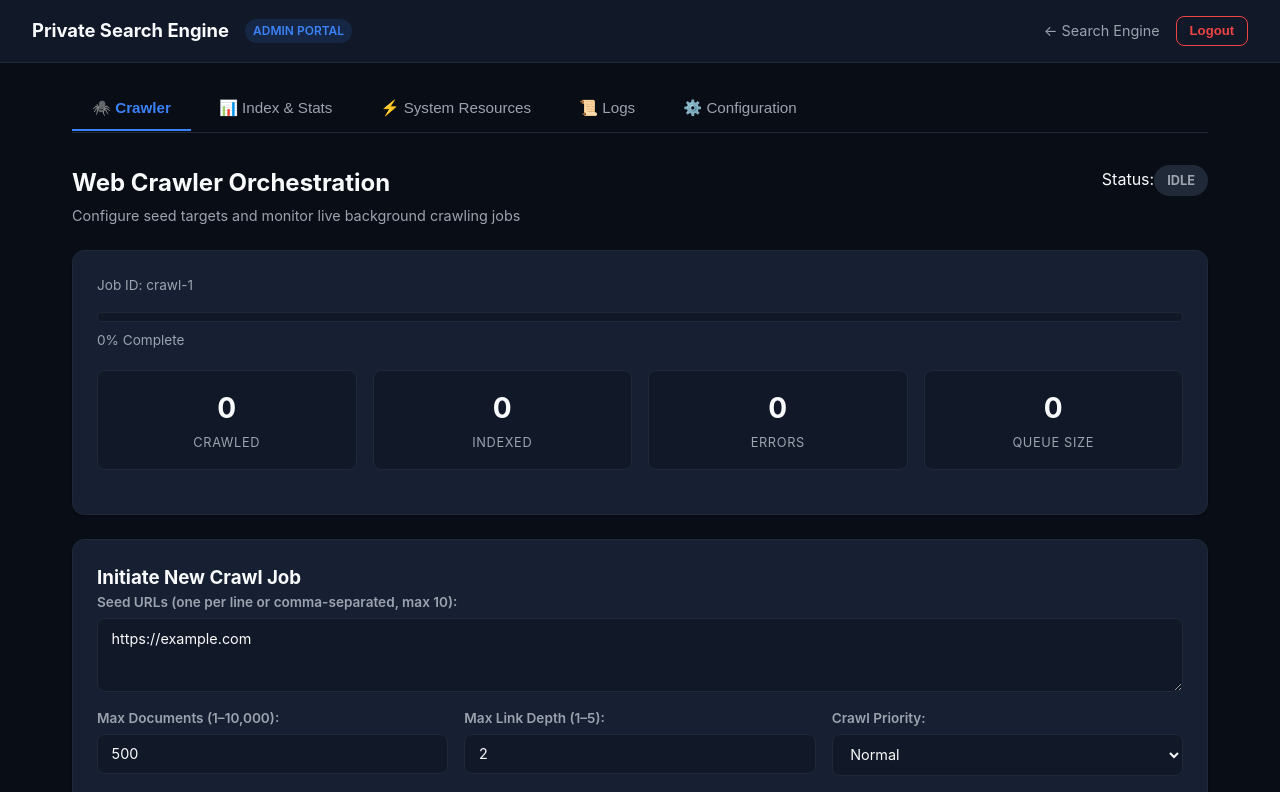
Test case: AdminDashboard & Authentication Gate › switches tabs smoothly when authenticated
The width and height of the screenshot is (1280, 792).
Check: the heading "Web Crawler Orchestration" is shown, box 72,168 -> 390,197
Note: Click Index & Stats tab
What coordinates should you click on to do the following:
click the button "📊 Index & Stats"
I would click on:
 (276, 109)
Its box is 199,87 -> 352,131.
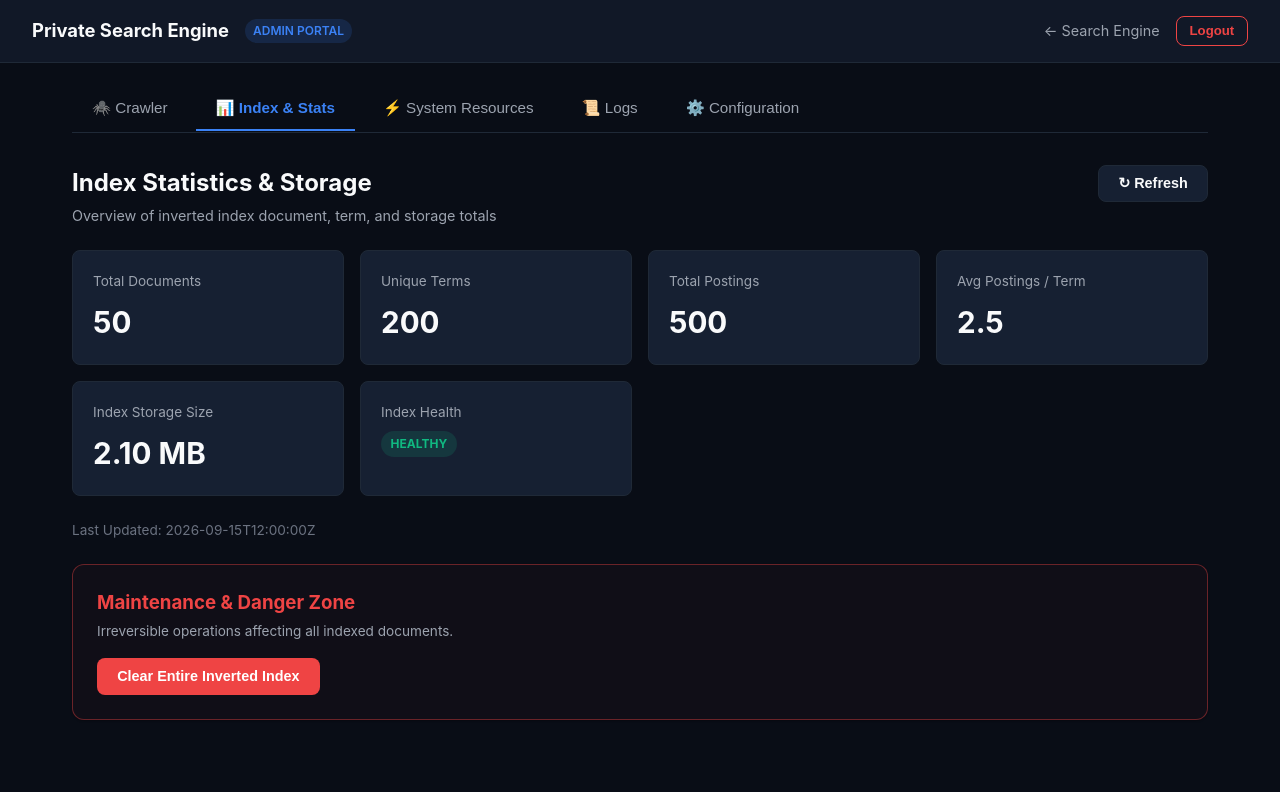
Check: the heading "Index Statistics & Storage" is shown, box 72,168 -> 372,197
Note: Click System Resources tab
What coordinates should you click on to do the following:
click the button "⚡ System Resources"
I would click on:
 (458, 109)
Its box is 363,87 -> 554,131.
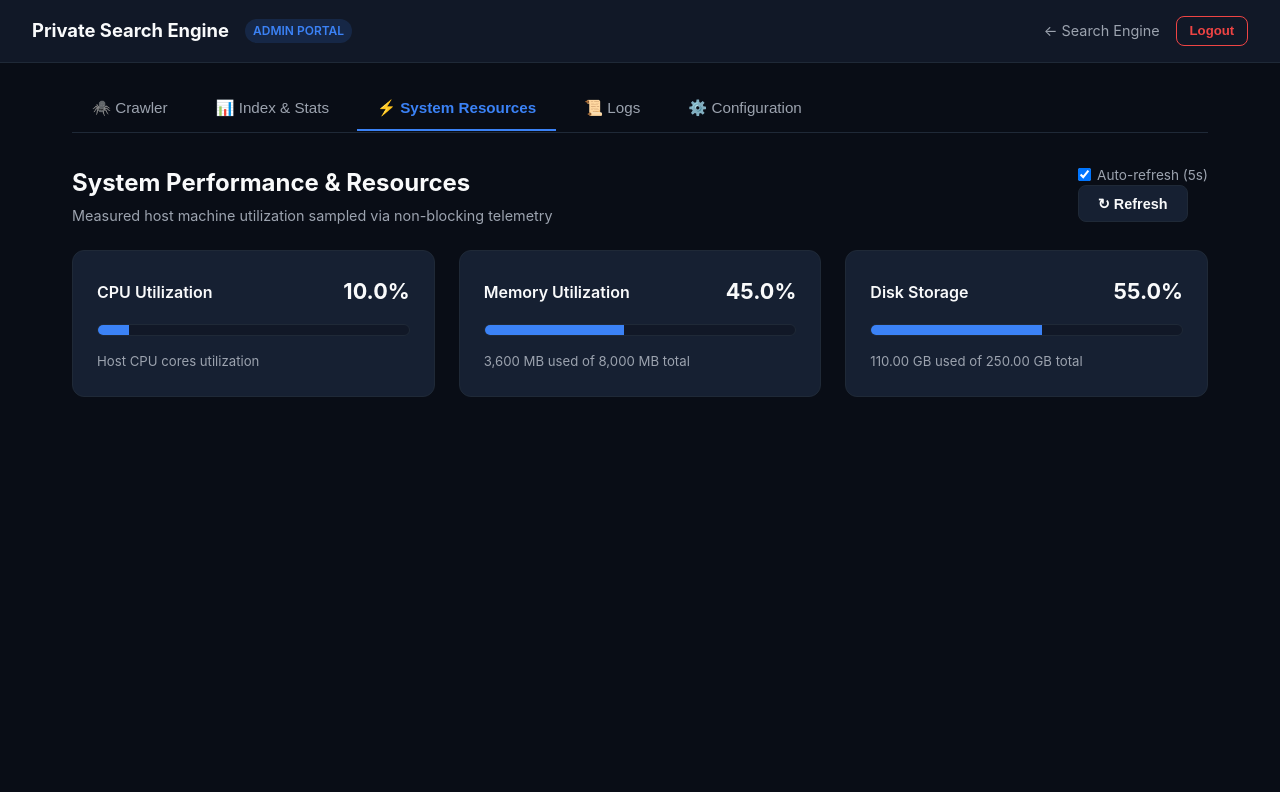
Check: the heading "System Performance & Resources" is shown, box 72,168 -> 470,197
Note: Click Logs tab
What coordinates should you click on to do the following:
click the button "📜 Logs"
I would click on:
 (612, 109)
Its box is 564,87 -> 660,131.
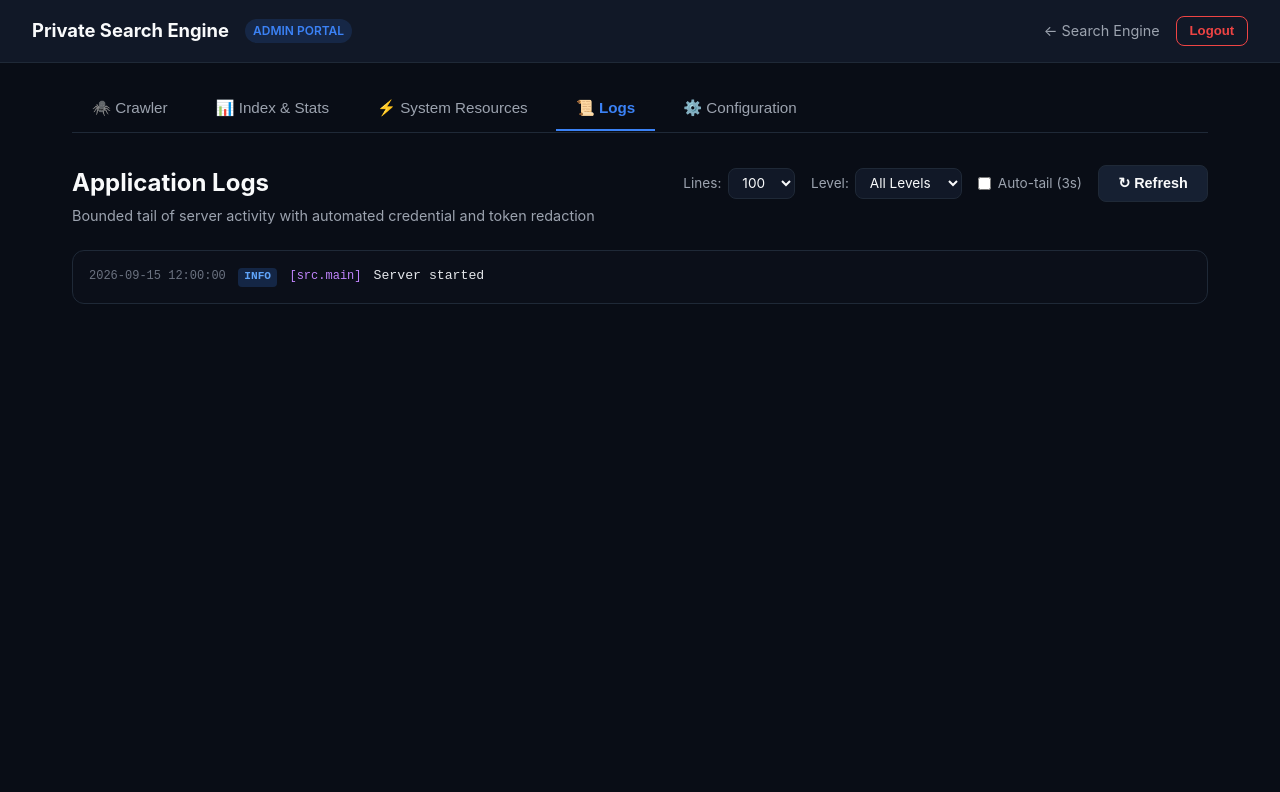
Check: the heading "Application Logs" is shown, box 72,168 -> 269,197
Note: Click Configuration tab
What coordinates should you click on to do the following:
click the button "⚙️ Configuration"
I would click on:
 (740, 109)
Its box is 663,87 -> 817,131.
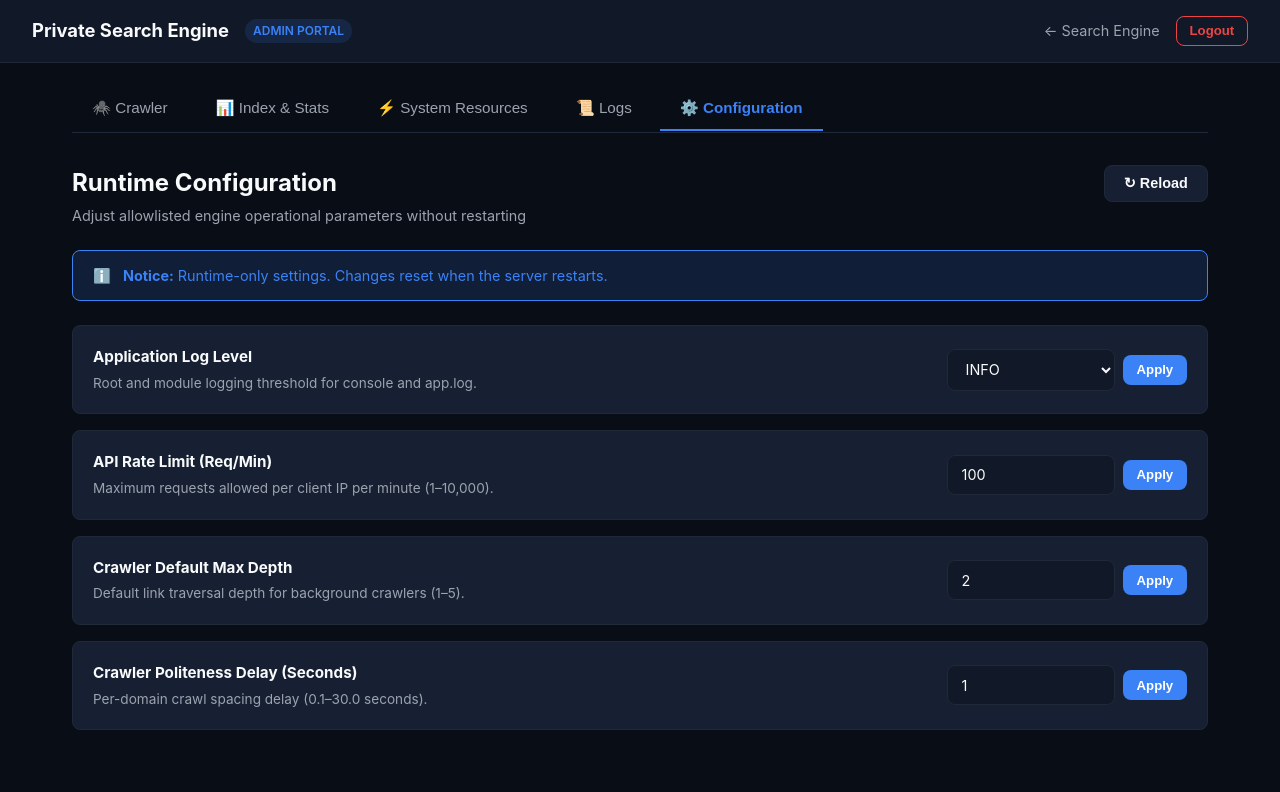
Check: the heading "Runtime Configuration" is shown, box 72,168 -> 337,197
